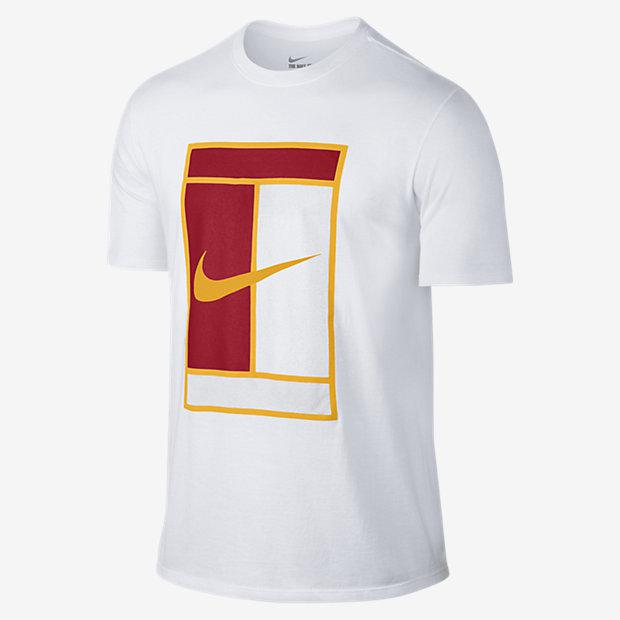teeshirt: (88, 8, 535, 620)
